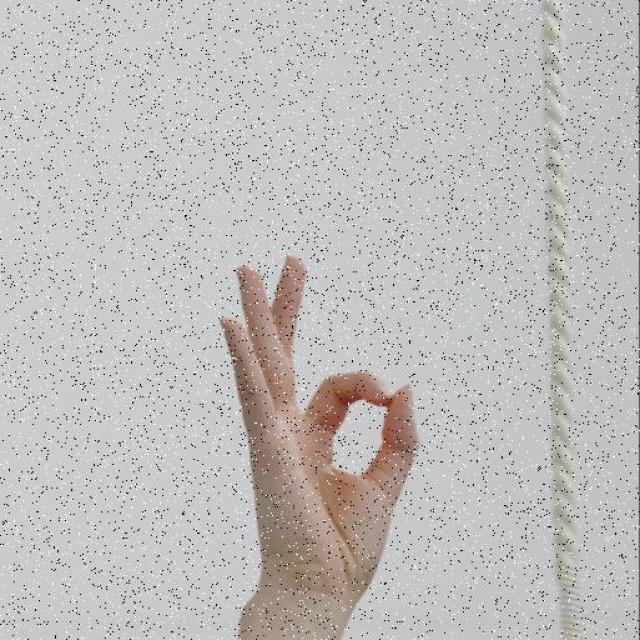F: (215, 251, 426, 598)
